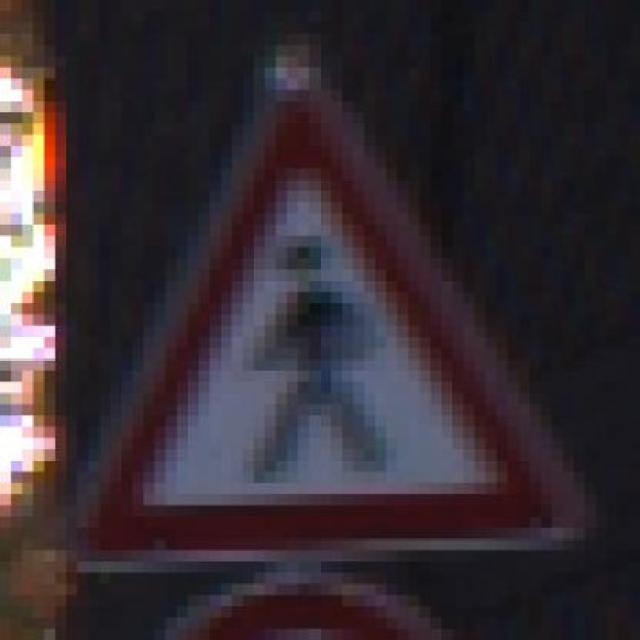Pedestrian Crossing: (77, 78, 608, 572)
